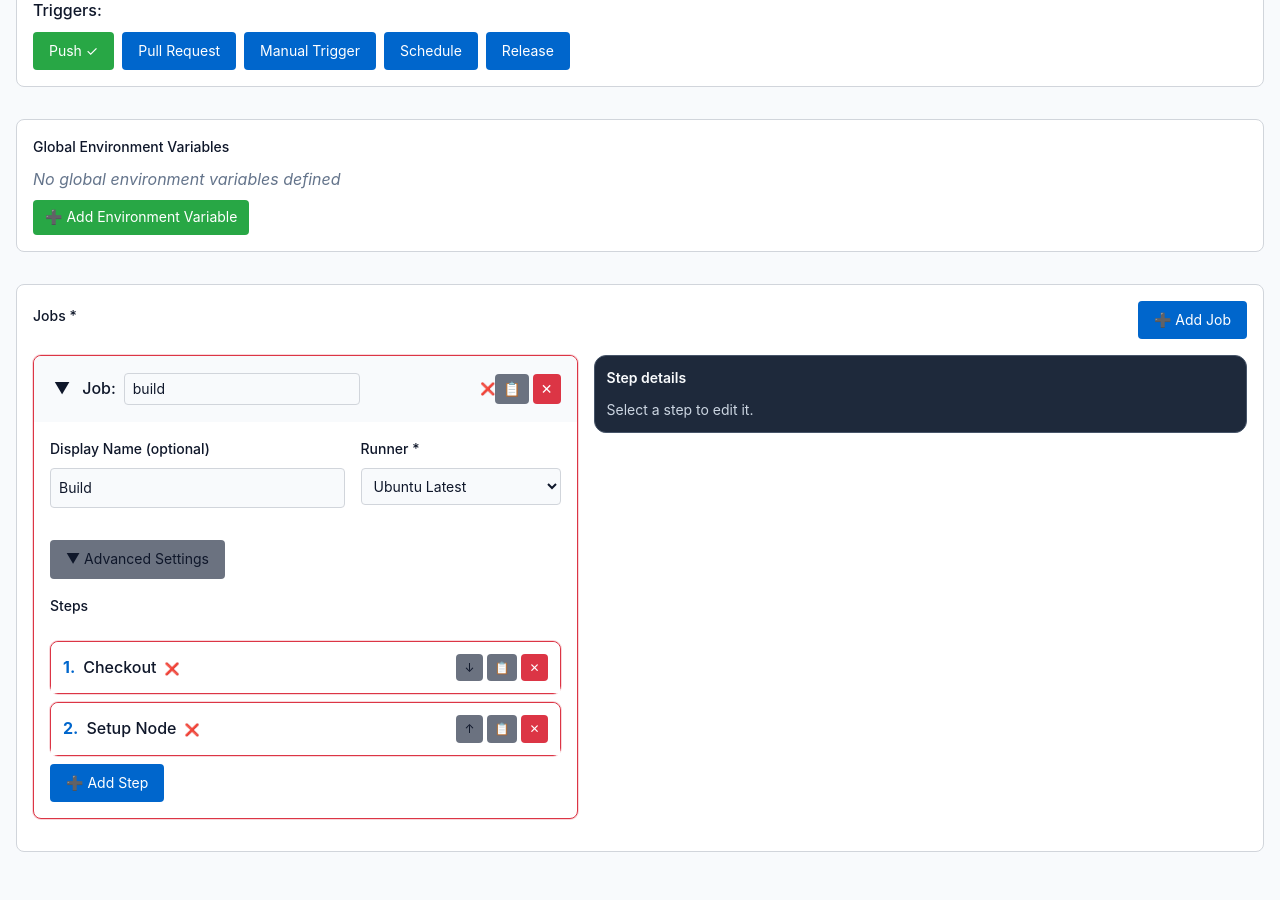
Test: GUIWorkflowEditor step detail panel › selects the copy when a step is duplicated
This screenshot has width=1280, height=900.
(page scrolled)
Click the 2nd button titled "Duplicate step".
click(502, 668)  # box 486,654 -> 518,682
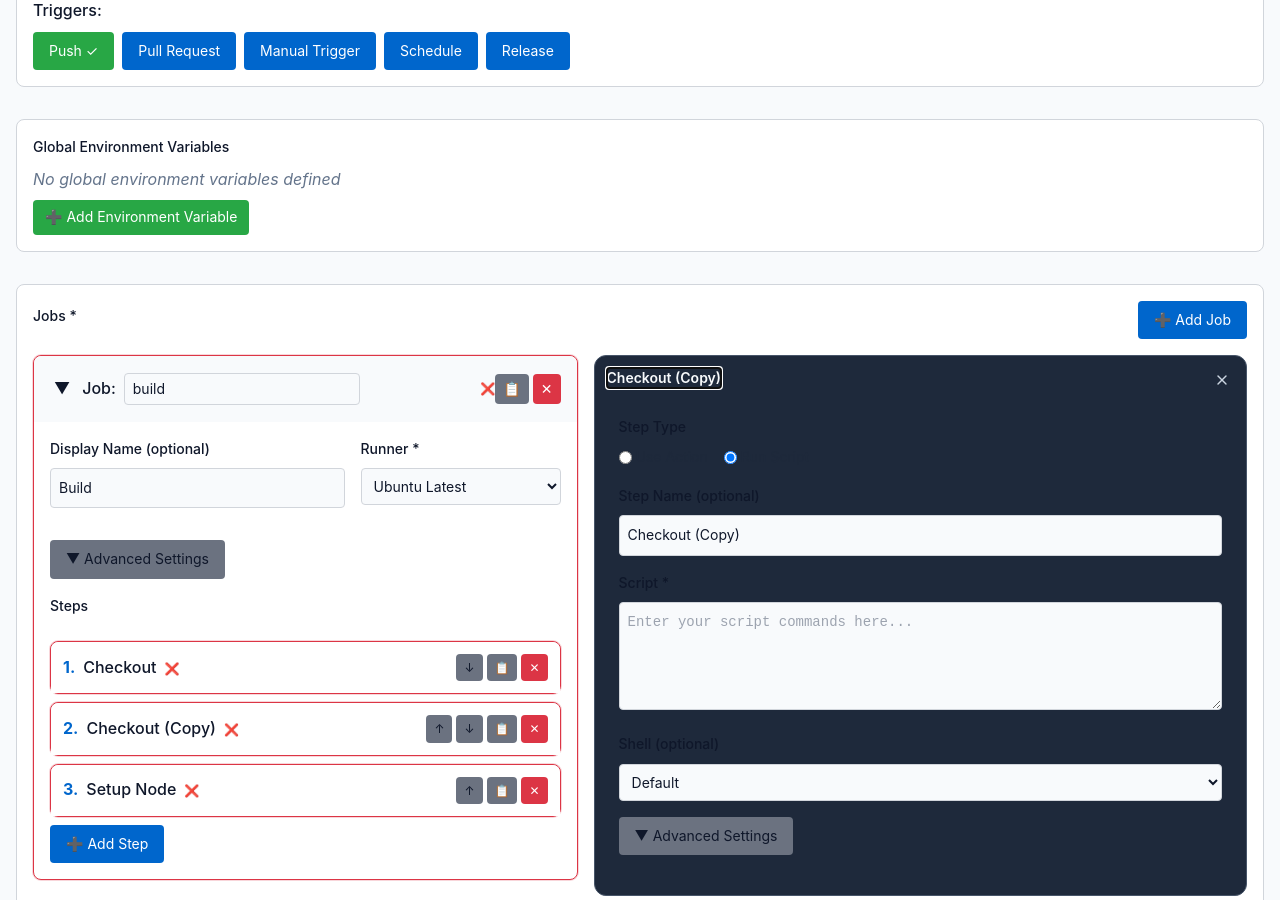
Expected: the field labelled "Step Name (optional)" holds "Checkout (Copy)", 618,515 -> 1222,556
